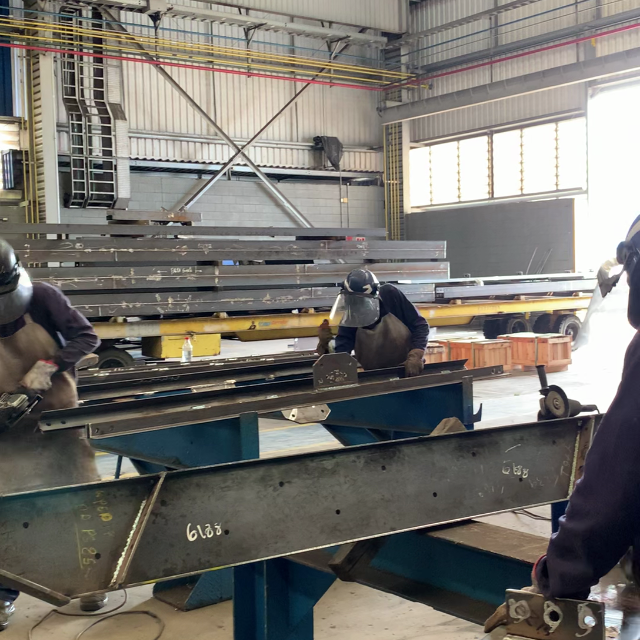face-shield: (324, 292, 380, 327), (1, 268, 34, 323)
glove: (23, 358, 57, 391), (402, 348, 426, 379)
helmet: (340, 268, 376, 294), (1, 239, 19, 275)
person: (1, 231, 110, 406), (315, 267, 428, 383)
safety-shoe: (79, 594, 110, 614), (1, 603, 11, 630)
